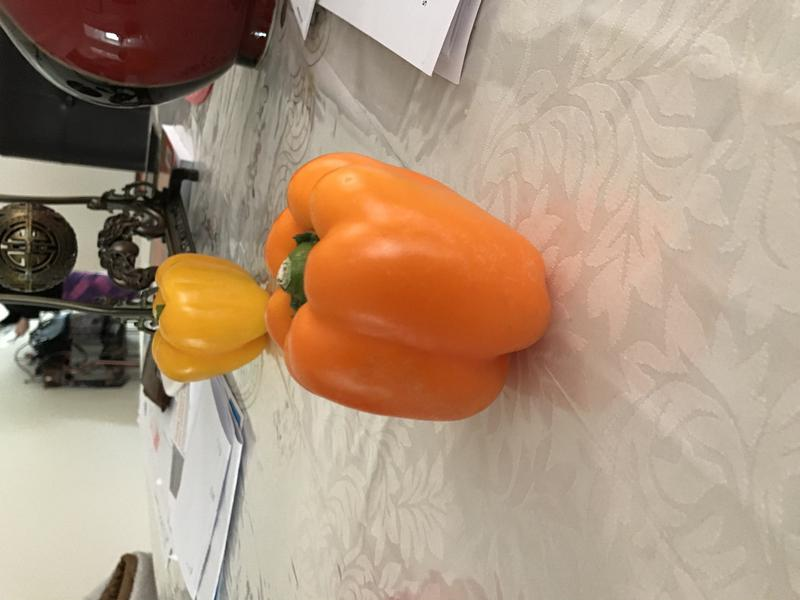orange_pepper: (256, 145, 567, 434)
yellow_pepper: (132, 256, 285, 397)
